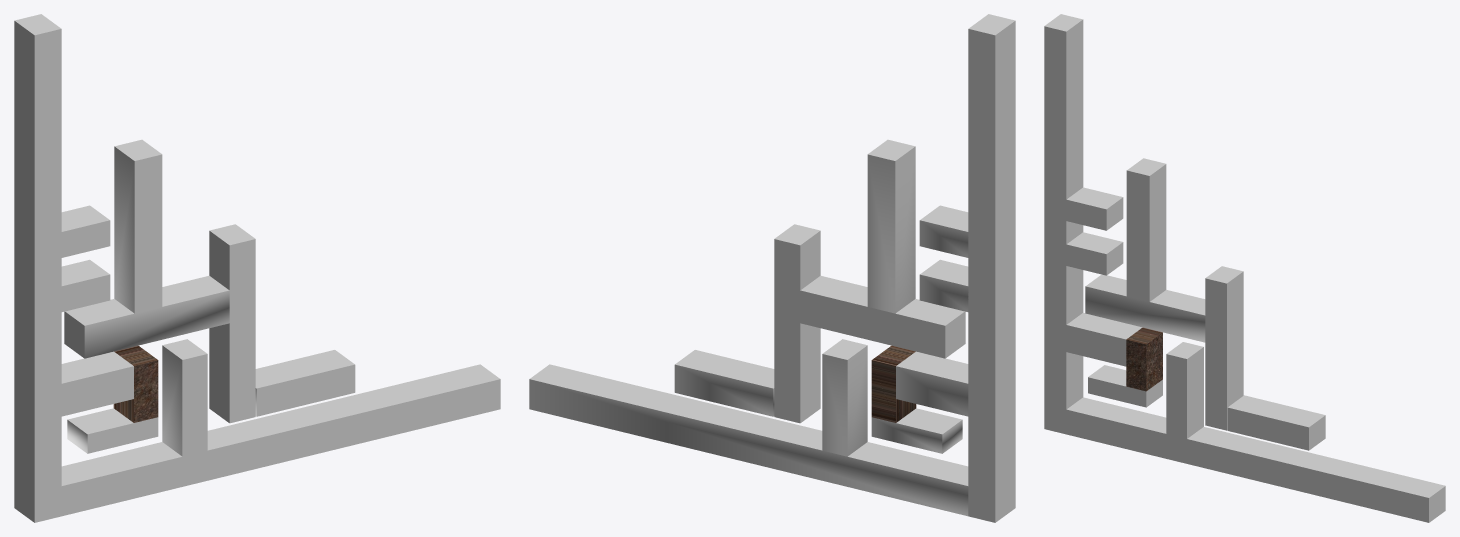
The model's file is alberto.glb.
3 renders of one model, left to right at view 1: azimuth 30°, elevation 25°; view 2: azimuth 150°, elevation 25°; view 3: azimuth 330°, elevation 25°, orthographic. The views are drawn at different scales.
Parts seen in each view (by area): view 1: Componen02, Componen03, Componen07, Componen09, Componen06, Componen04, Componen08, Componen05, Component_, Componen01, Componen11, Componen10; view 2: Componen02, Componen03, Componen07, Componen09, Componen06, Componen04, Componen08, Componen05, Component_, Componen01, Componen11, Componen10; view 3: Componen03, Componen02, Componen07, Componen09, Componen06, Componen08, Componen04, Componen05, Componen01, Componen11, Componen10, Component_.
Part boxes in pixels (bbox=[...]): Componen02: bbox=[14, 14, 61, 522]; Componen03: bbox=[61, 364, 500, 516]; Componen07: bbox=[209, 224, 255, 423]; Componen09: bbox=[114, 139, 162, 313]; Componen06: bbox=[64, 275, 229, 358]; Componen04: bbox=[162, 339, 207, 456]; Componen08: bbox=[255, 350, 355, 416]; Componen05: bbox=[61, 351, 133, 416]; Component_: bbox=[67, 408, 158, 453]; Componen01: bbox=[113, 345, 158, 422]; Componen11: bbox=[61, 205, 110, 257]; Componen10: bbox=[61, 259, 110, 311]; Componen02: bbox=[968, 14, 1015, 522]; Componen03: bbox=[529, 364, 968, 516]; Componen07: bbox=[774, 224, 820, 423]; Componen09: bbox=[867, 139, 915, 313]; Componen06: bbox=[800, 275, 965, 358]; Componen04: bbox=[822, 339, 867, 456]; Componen08: bbox=[674, 350, 774, 416]; Componen05: bbox=[896, 351, 968, 416]; Component_: bbox=[871, 408, 962, 453]; Componen01: bbox=[871, 345, 916, 422]; Componen11: bbox=[919, 205, 968, 257]; Componen10: bbox=[919, 259, 968, 311]; Componen03: bbox=[1066, 397, 1445, 522]; Componen02: bbox=[1044, 14, 1083, 434]; Componen07: bbox=[1205, 266, 1243, 430]; Componen09: bbox=[1126, 158, 1166, 301]; Componen06: bbox=[1085, 274, 1205, 342]; Componen08: bbox=[1227, 395, 1325, 450]; Componen04: bbox=[1166, 342, 1203, 438]; Componen05: bbox=[1066, 312, 1142, 366]; Componen01: bbox=[1126, 327, 1162, 391]; Componen11: bbox=[1066, 187, 1123, 230]; Componen10: bbox=[1066, 232, 1123, 275]; Component_: bbox=[1088, 365, 1162, 407].
Size of the model in its own units: 1620 by 1620 by 122.
2 materials, 1 textured.
